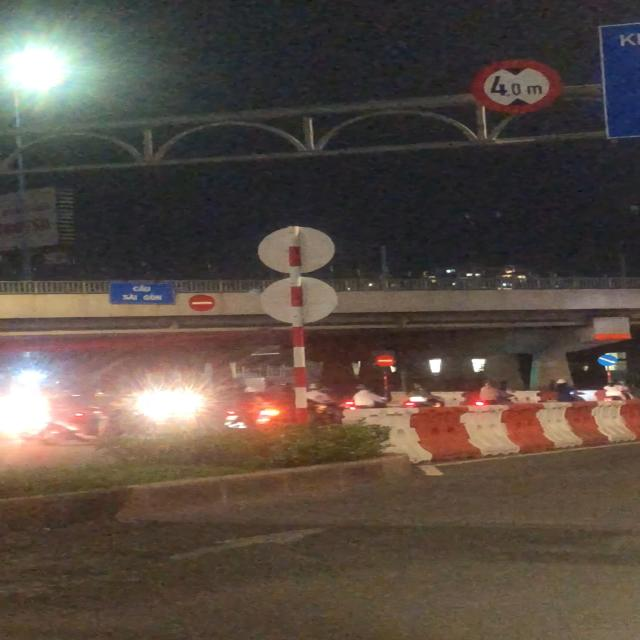Bien bao cam di nguoc chieu: (188, 293, 220, 311), (374, 352, 398, 367)
Bien bao han che chieu cao: (470, 58, 565, 115)
Bien bao huong phai di vong chuong ngai vat: (597, 354, 619, 366)
